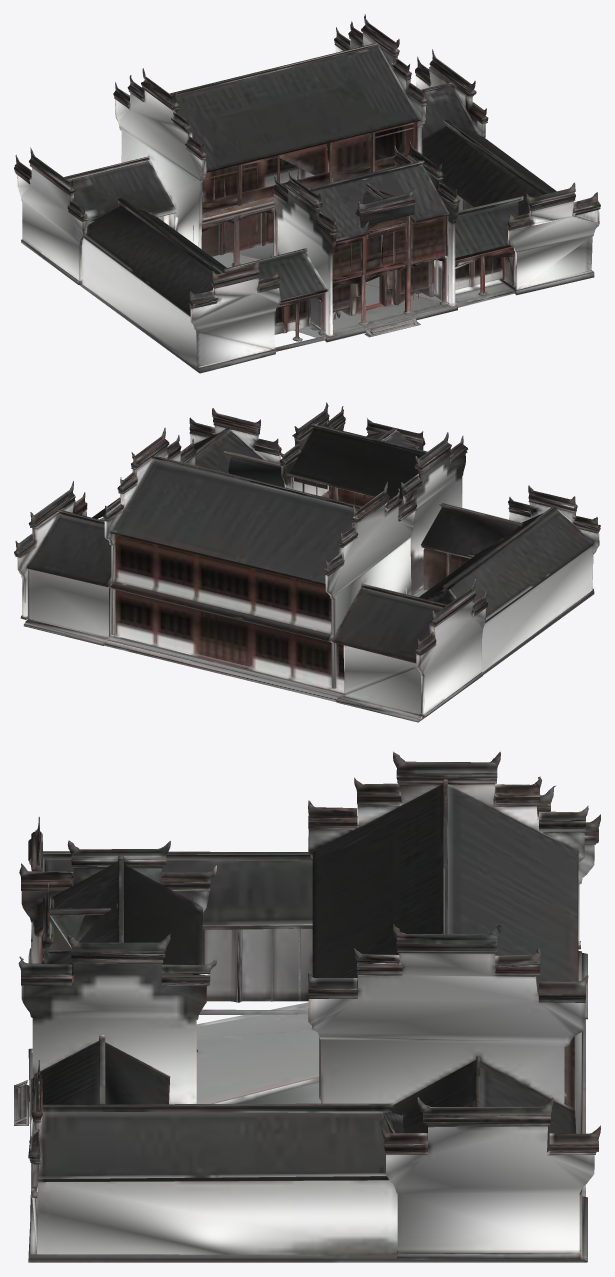
Rendered from shexian_high_school.glb.
3 views of the same model, one above another, from view 1: azimuth 30°, elevation 25°; view 2: azimuth 150°, elevation 25°; view 3: azimuth 270°, elevation 25° (orthographic). The views are drawn at different scales.
Size of the model in its own units: 0.9448 by 0.3872 by 0.7412.
1 material, 1 textured.
